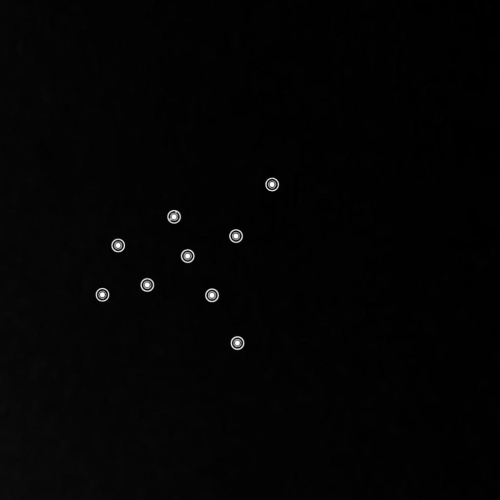cygnus: (93, 172, 283, 356)
